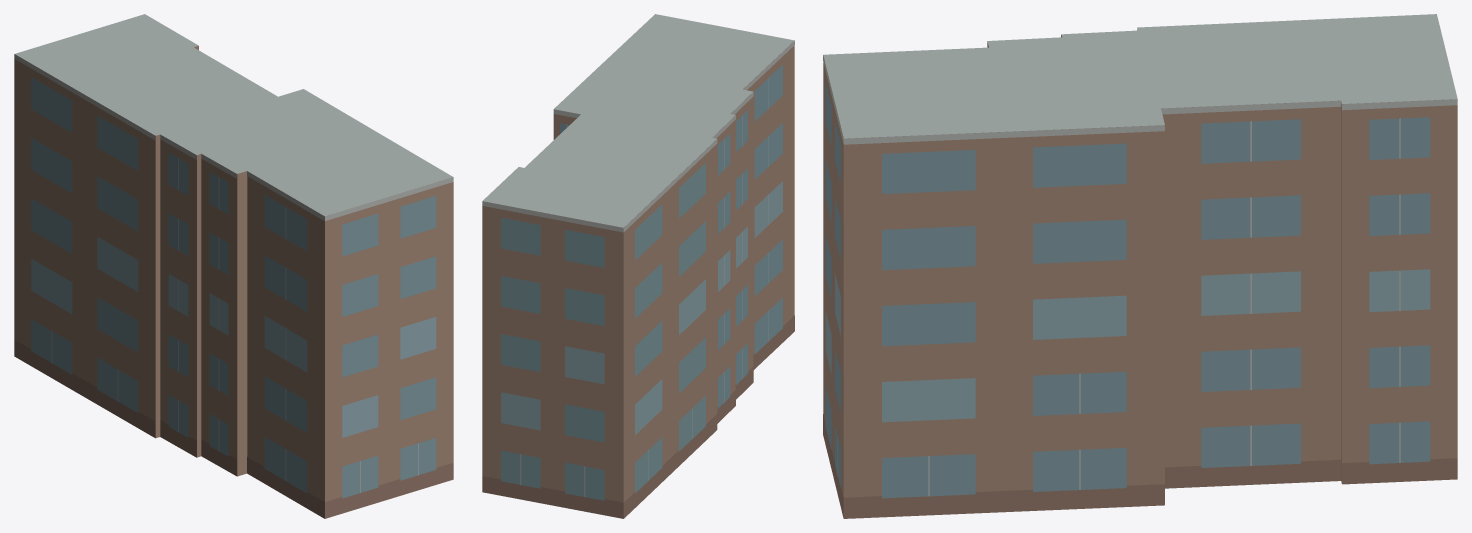
The model's file is survey-upis-32956454.glb.
The picture shows the model from 3 angles, left to right: view 1: azimuth 30°, elevation 25°; view 2: azimuth 150°, elevation 25°; view 3: azimuth 270°, elevation 25°; orthographic projection. The views are drawn at different scales.
Visible parts, largest first — view 1: survey-upis-32956454.tmp; view 2: survey-upis-32956454.tmp; view 3: survey-upis-32956454.tmp.
Part boxes in pixels (bbox=[...]): survey-upis-32956454.tmp: bbox=[14, 14, 453, 518]; survey-upis-32956454.tmp: bbox=[482, 14, 794, 518]; survey-upis-32956454.tmp: bbox=[823, 14, 1457, 518].
Bounding box in the file's own units: 10.69 × 15.2 × 23.
